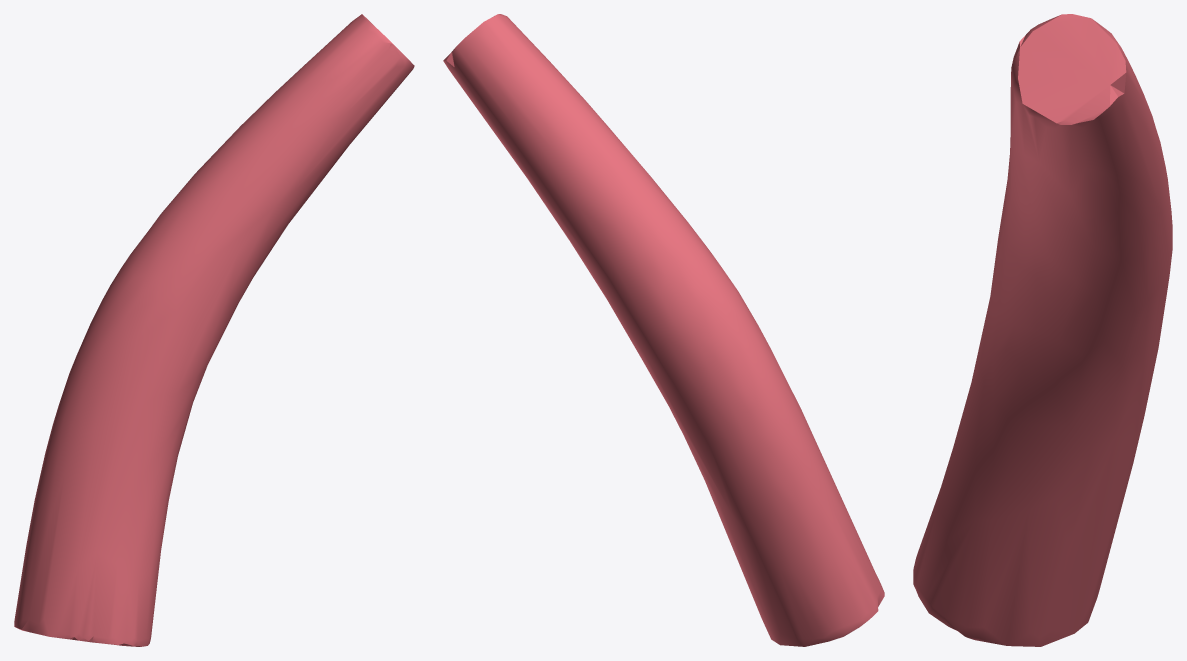
The model's file is fma68709_fj2999.glb.
3 renders of one model, left to right at view 1: azimuth 30°, elevation 25°; view 2: azimuth 150°, elevation 25°; view 3: azimuth 270°, elevation 25°, orthographic. The views are drawn at different scales.
Parts seen in each view (by area): view 1: FMA68709_FJ2999; view 2: FMA68709_FJ2999; view 3: FMA68709_FJ2999.
Boxes of the visible parts, <box> form: FMA68709_FJ2999: <box>14,14,414,646</box>; FMA68709_FJ2999: <box>443,14,884,646</box>; FMA68709_FJ2999: <box>913,14,1172,646</box>.
Size of the model in its own units: 0.0137 by 0.0177 by 0.00506.
